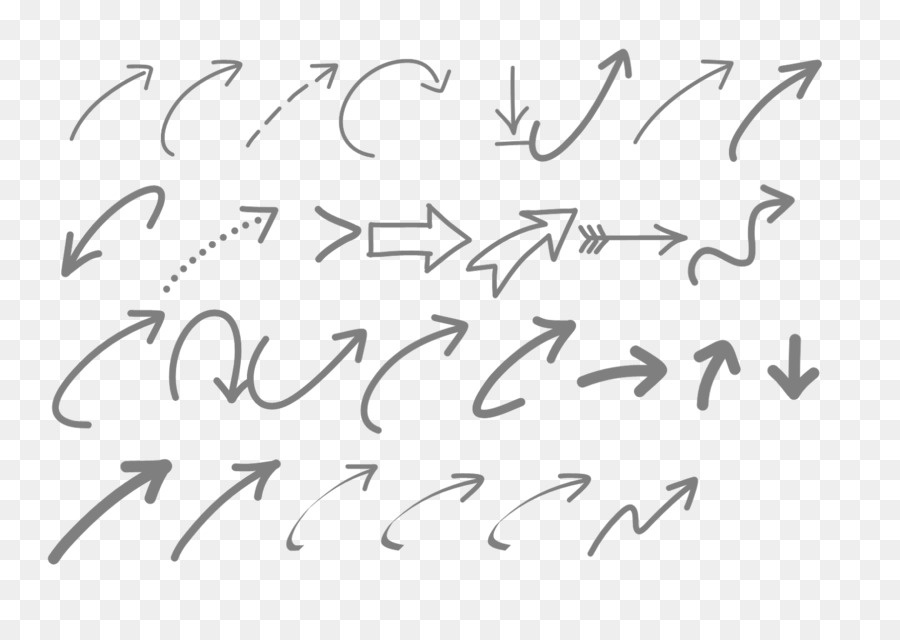arrow: (562, 46, 632, 141), (79, 458, 171, 520), (353, 53, 455, 107), (190, 198, 280, 258), (77, 305, 168, 361), (500, 312, 583, 373), (388, 309, 471, 366), (203, 458, 285, 515), (58, 202, 113, 282), (272, 58, 340, 122), (84, 59, 155, 115), (745, 180, 799, 252), (686, 338, 744, 401), (172, 55, 241, 104), (408, 470, 490, 511), (639, 473, 704, 523), (297, 326, 366, 373), (313, 459, 381, 505), (522, 468, 594, 509), (207, 337, 248, 406), (490, 82, 531, 138)
